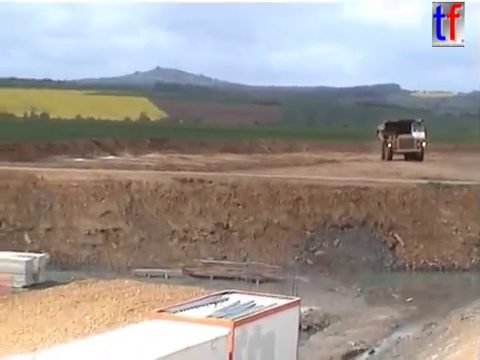truck: (375, 116, 428, 163)
